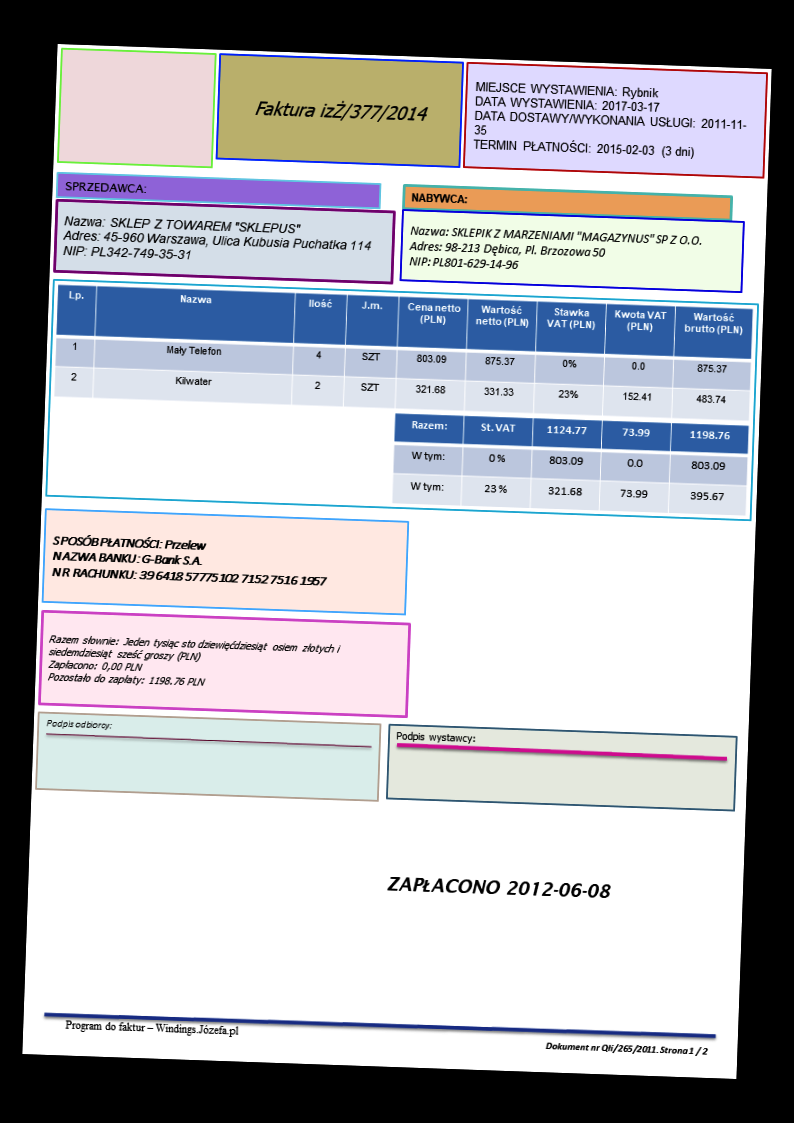Table: (52, 282, 754, 423), (389, 410, 751, 517)
TextBox: (471, 77, 751, 164), (46, 631, 346, 694), (60, 212, 374, 271), (406, 221, 705, 280), (49, 530, 330, 592), (385, 871, 612, 903), (250, 96, 432, 126), (63, 1014, 240, 1040), (543, 1036, 711, 1059), (60, 176, 148, 196), (392, 728, 478, 747), (43, 714, 113, 733), (408, 187, 469, 208)
